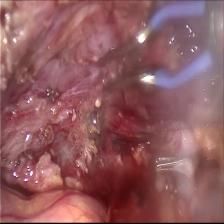Bipolar: (93, 0, 224, 102)
